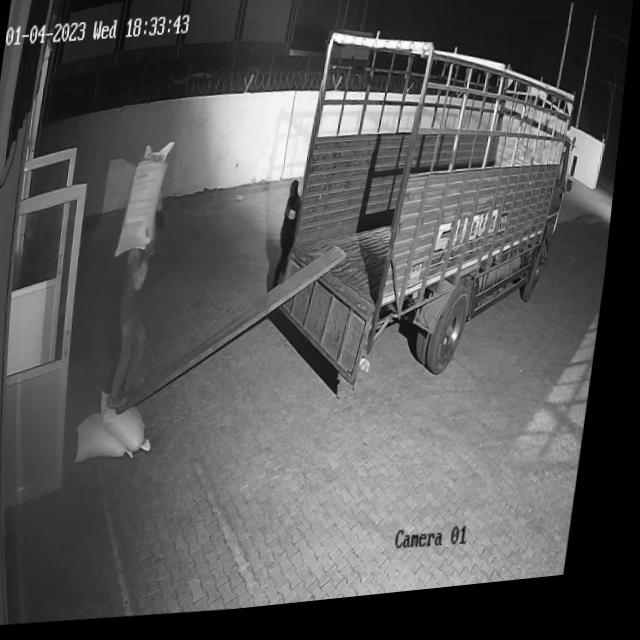sack: (119, 141, 177, 262), (100, 387, 168, 461), (82, 409, 148, 467)
